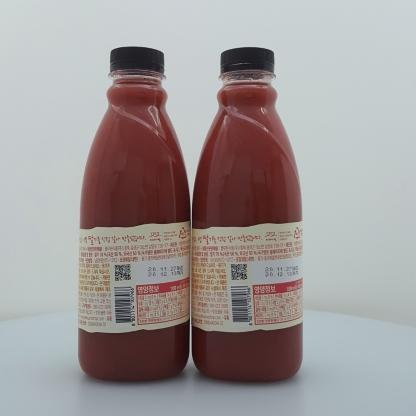--------------700ML: (78, 46, 191, 381), (191, 47, 303, 381)
